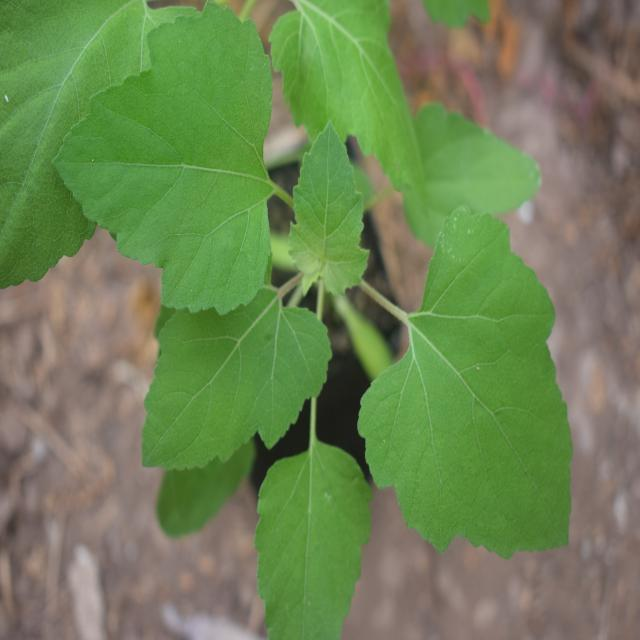cocklebur: (88, 0, 593, 571)
